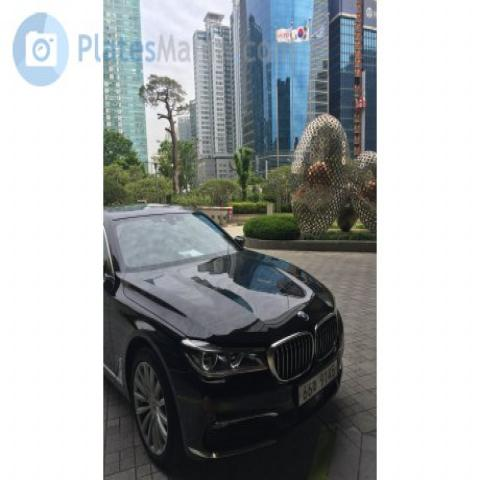LP: (294, 352, 346, 408)
